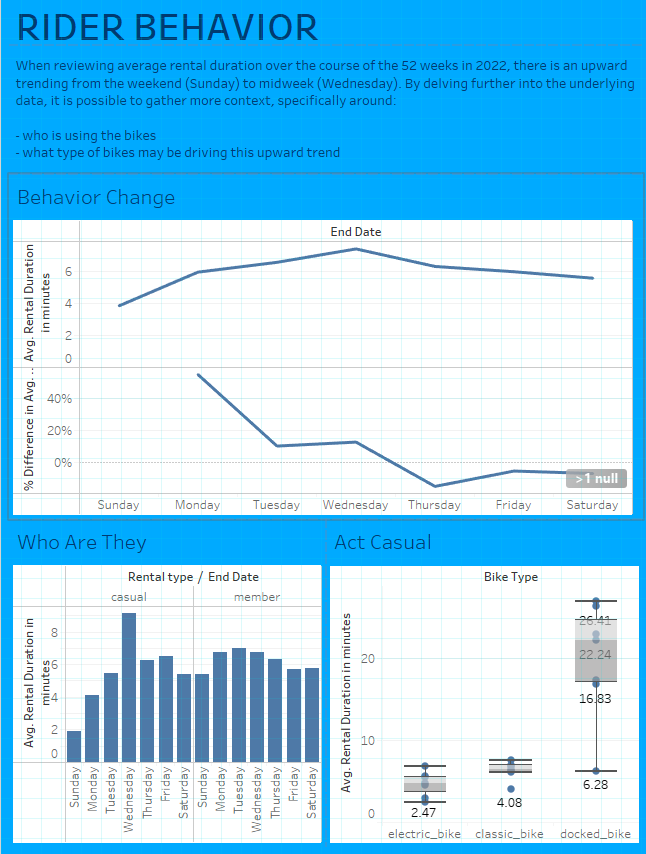

The page's visual inventory and layout, read from the dashboard file:
{"tool":"tableau","page":{"name":"Rider Behavior","canvas":[650,860],"ordinal":1},"visuals":[{"type":"text","box":[8,8.1,634,39.5]},{"type":"text","box":[8,47.6,634,128.6]},{"type":"worksheet","title":"Behavior Change","mark":"Automatic","rows":["Calculation_1855201619486072832"],"cols":["End Date"],"box":[8,176.3,634,346.4]},{"type":"worksheet","title":"Who Are They","mark":"Bar","rows":["Calculation_1855201619486072832"],"cols":["Rental type","End Date"],"box":[8,522.7,317,329.2]},{"type":"worksheet","title":"Act Casual","mark":"Circle","rows":["Calculation_1855201619486072832"],"cols":["Bike Type"],"box":[325,522.7,317,329.2]}]}

Visuals, with their boxes in screenshot pixels (x1, y1, x2, y2), scaled from the page's 650x860 canvas onto the 646x854 screenshot:
text: 8, 8, 638, 47
text: 8, 47, 638, 175
"Behavior Change" worksheet: 8, 175, 638, 519
"Who Are They" worksheet (Bar marks): 8, 519, 323, 846
"Act Casual" worksheet (Circle marks): 323, 519, 638, 846
